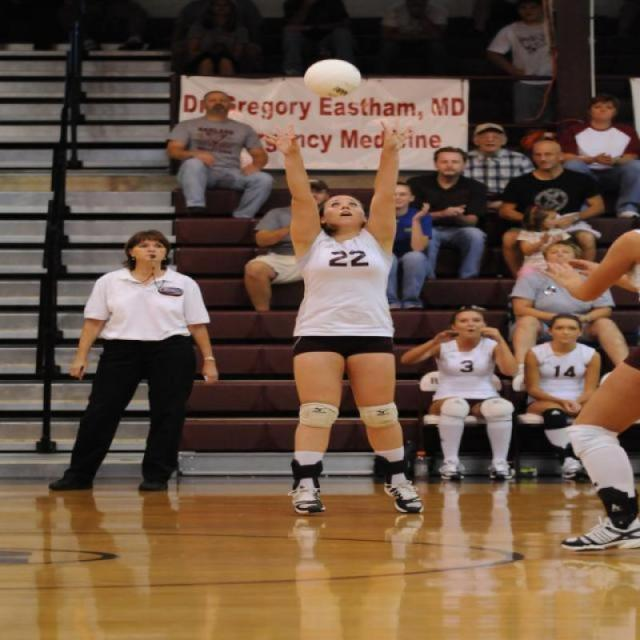volleyball: (302, 57, 362, 100)
